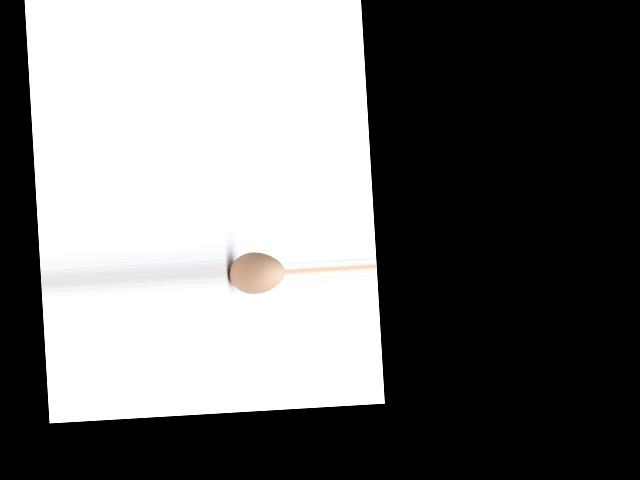egg: (227, 251, 285, 295)
